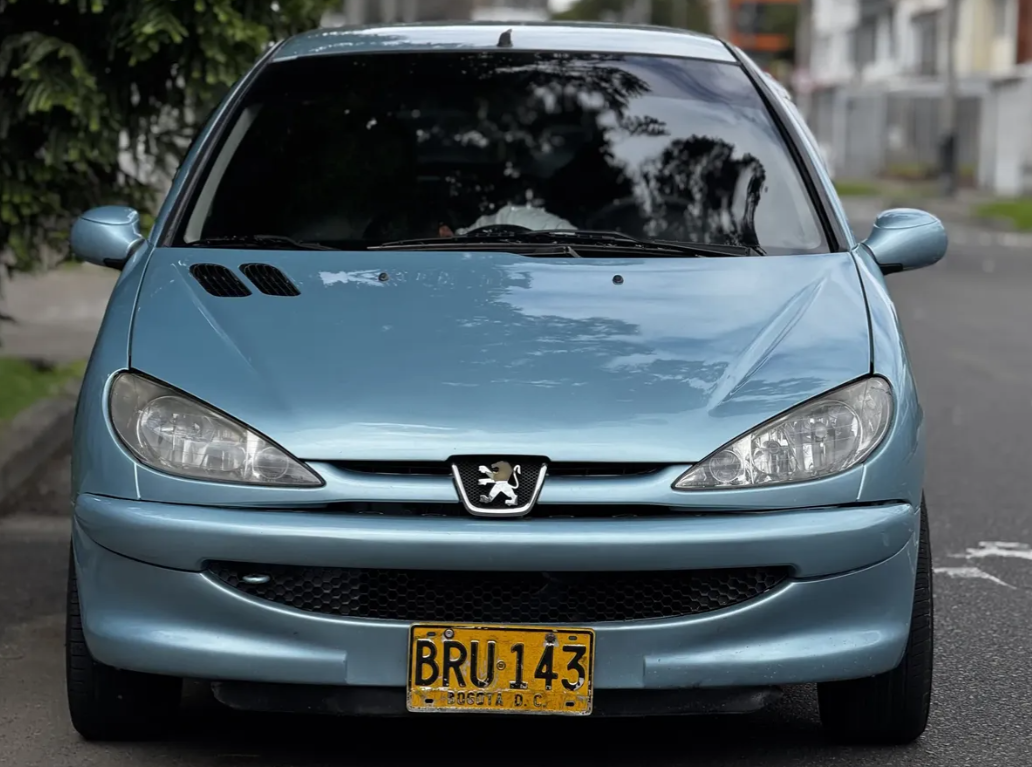placa: (406, 620, 602, 723)
